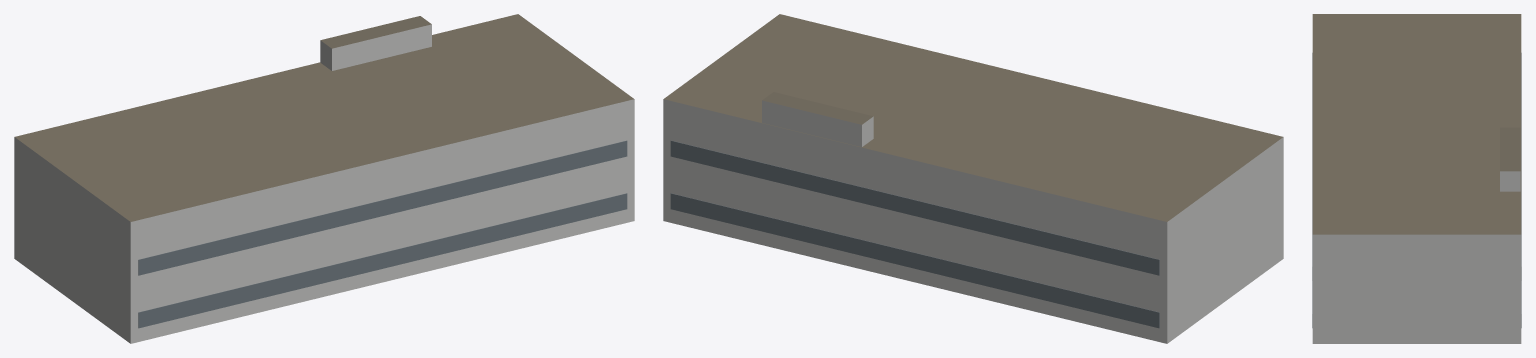
The model's file is air-terminal.tone-v1.lod2.glb.
3 views of the same model, side by side, from view 1: azimuth 30°, elevation 25°; view 2: azimuth 150°, elevation 25°; view 3: azimuth 270°, elevation 25° (orthographic). The views are drawn at different scales.
Parts seen in each view (by area): view 1: air-terminal; view 2: air-terminal; view 3: air-terminal.
Boxes of the visible parts, x1,y1,x2,y2 form: air-terminal: (14, 14, 634, 343); air-terminal: (663, 14, 1283, 343); air-terminal: (1312, 14, 1521, 343).
Bounding box in the file's own units: 40 × 10.95 × 16.06.
